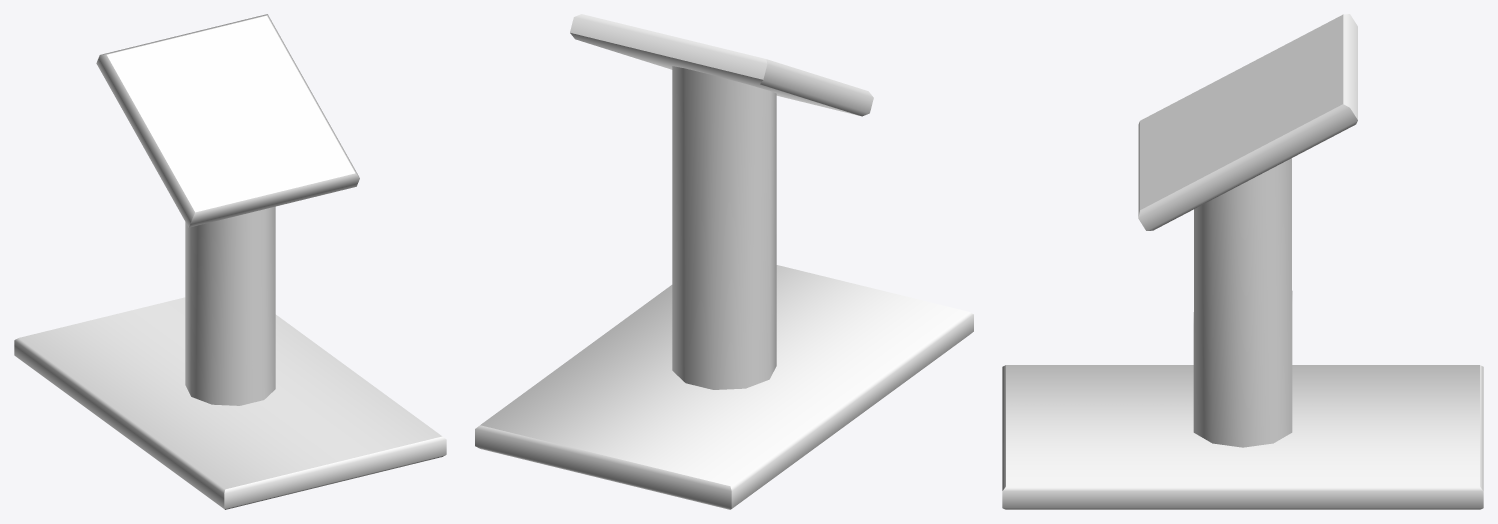
Rendered from aws_Holder_01_visual.DAE.
3 renders of one model, left to right at view 1: azimuth 30°, elevation 25°; view 2: azimuth 150°, elevation 25°; view 3: azimuth 270°, elevation 25°, orthographic. The views are drawn at different scales.
Visible parts, largest first — view 1: aws_Holder_01_visual; view 2: aws_Holder_01_visual; view 3: aws_Holder_01_visual.
Boxes of the visible parts, x1,y1,x2,y2 form: aws_Holder_01_visual: (14, 14, 446, 509); aws_Holder_01_visual: (475, 14, 973, 509); aws_Holder_01_visual: (1002, 14, 1483, 509).
Size of the model in its own units: 11.33 by 18.51 by 16.56.
